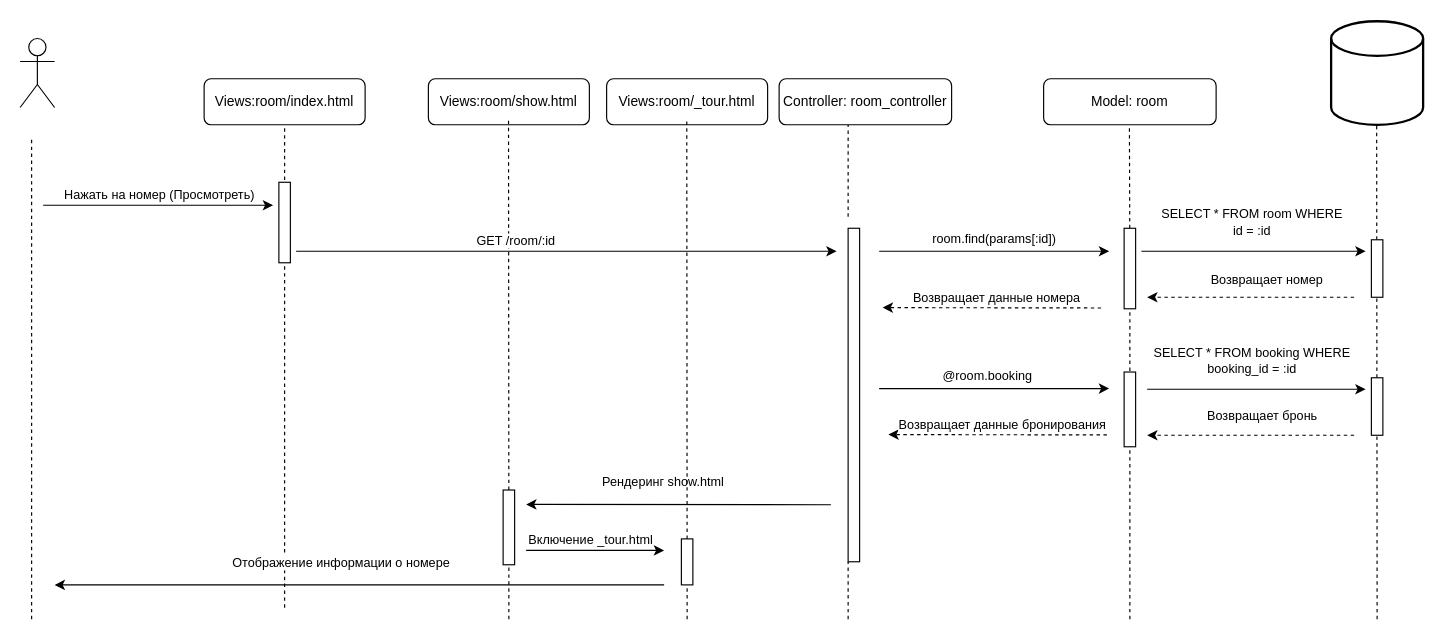
This 1444x641 diagram has some shape labels left out. The shapes that lost their labels are listed below. From the top down, each one's box as (x1, y1, x2, y2) in pixels, then its label:
(19, 37, 55, 108): User
(1329, 20, 1424, 125): DB
